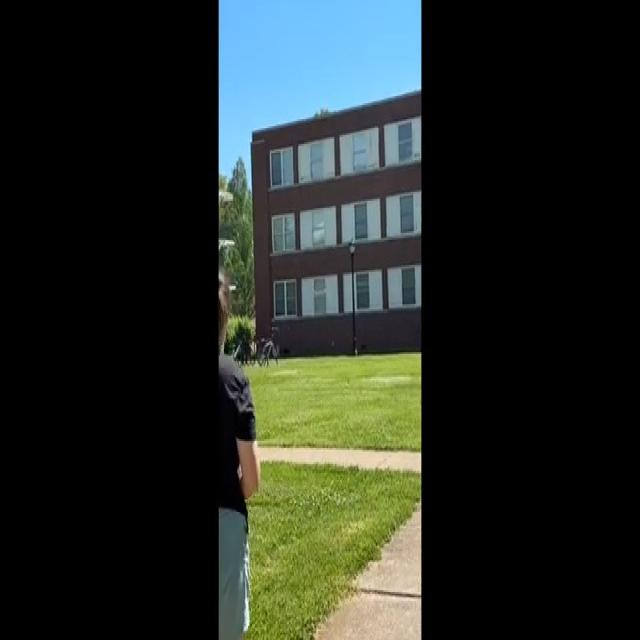drone: (268, 321, 282, 338)
